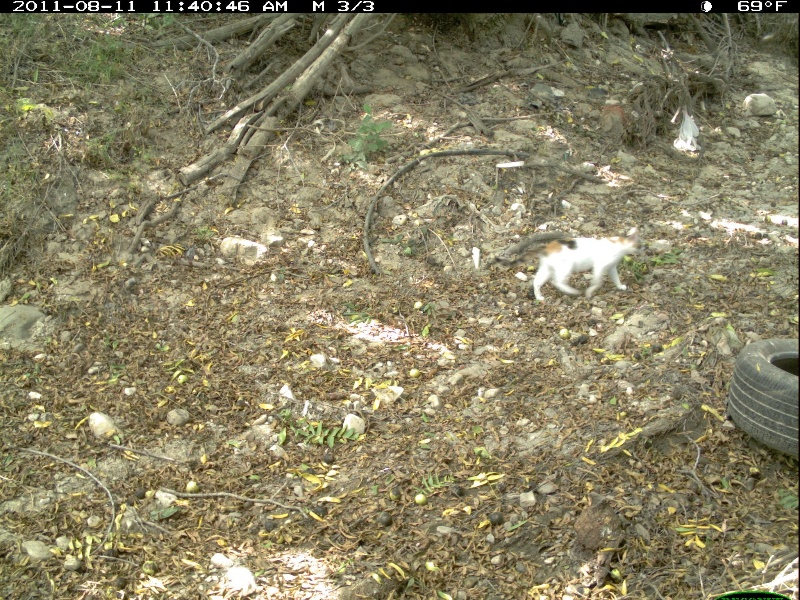cat: (503, 230, 644, 302)
